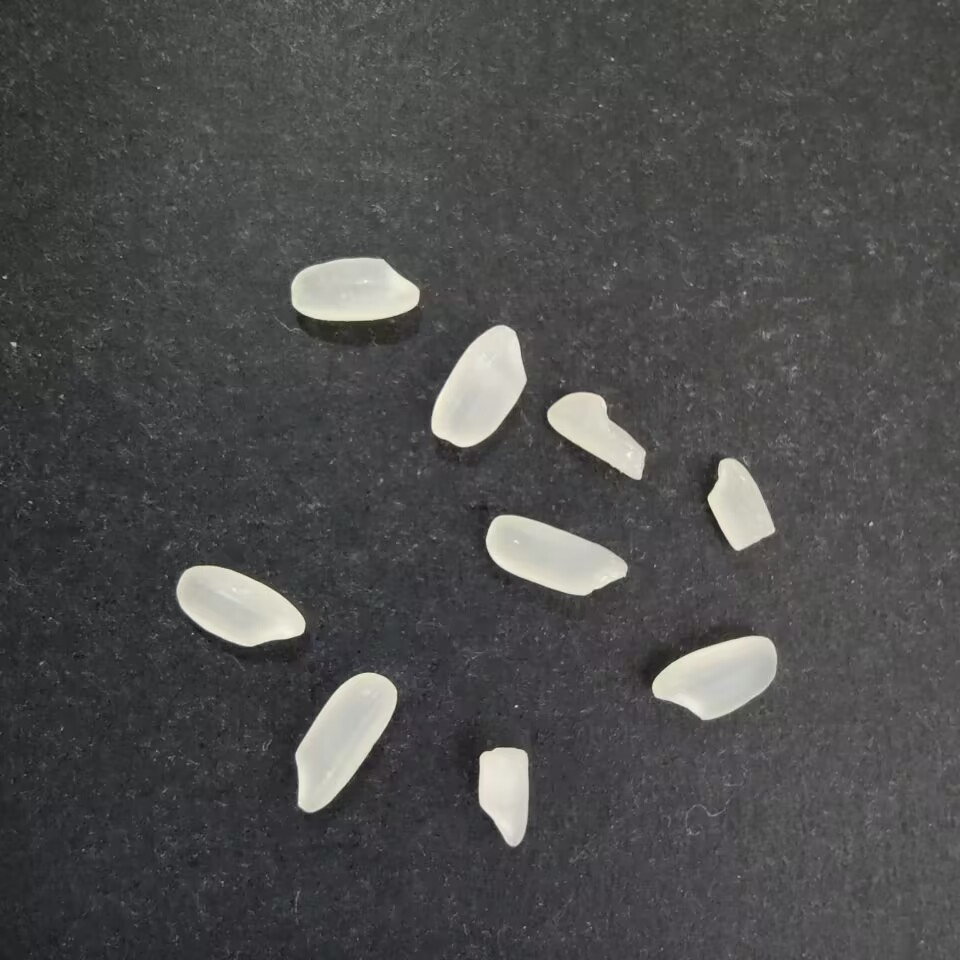broken: (546, 390, 647, 481), (706, 457, 776, 551), (477, 746, 529, 847)
rice: (294, 672, 397, 813), (430, 324, 528, 448), (485, 515, 628, 596), (175, 564, 306, 647), (651, 635, 777, 720), (289, 256, 420, 322)
